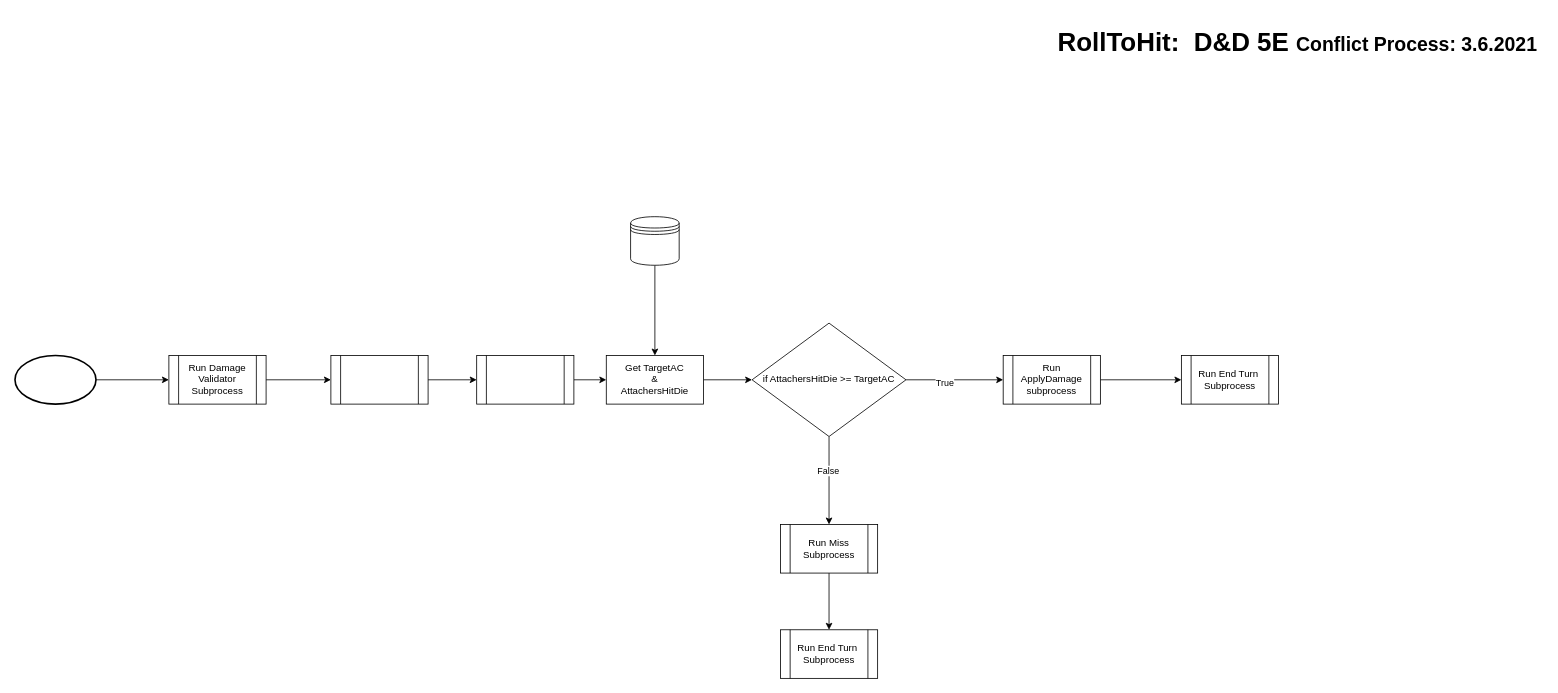
Some shapes in this 1558 by 693 pixel diagram are drawn without their labels. The box of each missing label's shape, as (x1, y1, x2, y2) in pixels:
Run Roll For Advantage Subprocess: (476, 355, 574, 404)
Run To Hit Subprocess: (330, 355, 428, 404)
Start hit check: (14, 354, 96, 405)
